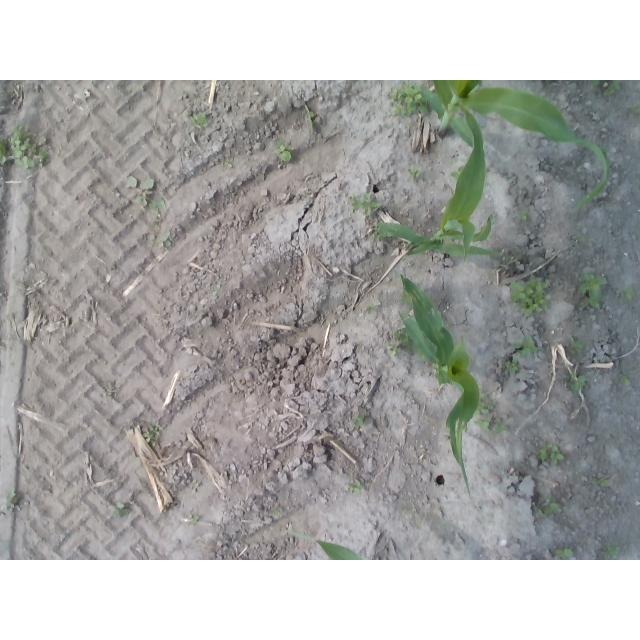Maize: (422, 80, 610, 210), (389, 266, 480, 499), (378, 95, 498, 266), (285, 529, 455, 560)
Weeds: (508, 274, 550, 317), (390, 80, 431, 114), (10, 124, 39, 169), (577, 274, 608, 311), (128, 175, 154, 206), (349, 192, 381, 216), (537, 441, 566, 465), (534, 493, 562, 516), (472, 391, 496, 414), (513, 337, 538, 356), (272, 138, 291, 163), (142, 424, 163, 446), (394, 327, 415, 349), (565, 372, 587, 390), (109, 502, 132, 518), (567, 335, 585, 355), (1, 491, 20, 509), (152, 230, 172, 247), (492, 417, 510, 435), (474, 416, 491, 433), (346, 475, 362, 493), (603, 80, 621, 96), (190, 113, 209, 128), (498, 252, 515, 268), (149, 199, 168, 212), (502, 359, 518, 374), (374, 227, 391, 241), (400, 291, 413, 309), (451, 167, 466, 182), (620, 286, 637, 299), (39, 147, 50, 166), (555, 548, 574, 559), (602, 544, 619, 556), (1, 137, 8, 165), (407, 168, 422, 181), (388, 342, 401, 356), (516, 209, 529, 221), (353, 413, 364, 427), (308, 111, 316, 129), (598, 477, 610, 488), (211, 283, 221, 295), (367, 302, 377, 314), (188, 516, 200, 525), (226, 158, 234, 169), (620, 376, 629, 384), (628, 104, 637, 112), (579, 236, 587, 245), (589, 80, 599, 86), (274, 509, 280, 516)
